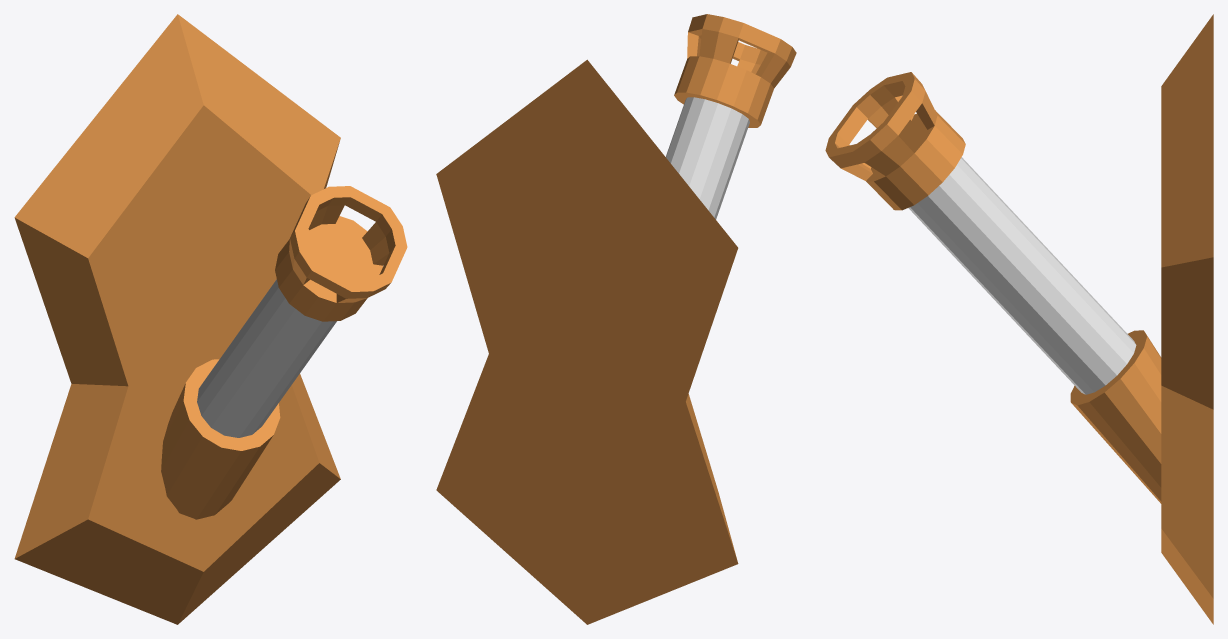
File: TorchHolder.fbx
The picture shows the model from 3 angles, left to right: view 1: azimuth 30°, elevation 25°; view 2: azimuth 150°, elevation 25°; view 3: azimuth 270°, elevation 25°; orthographic projection. The views are drawn at different scales.
Parts seen in each view (by area): view 1: Plane; view 2: Plane; view 3: Plane.
Boxes of the visible parts, left/top/right/bottom form: Plane: left=14, top=14, right=407, bottom=624; Plane: left=436, top=14, right=796, bottom=624; Plane: left=825, top=14, right=1213, bottom=624.
Bounding box in the file's own units: 41.93 × 74.98 × 43.16.
